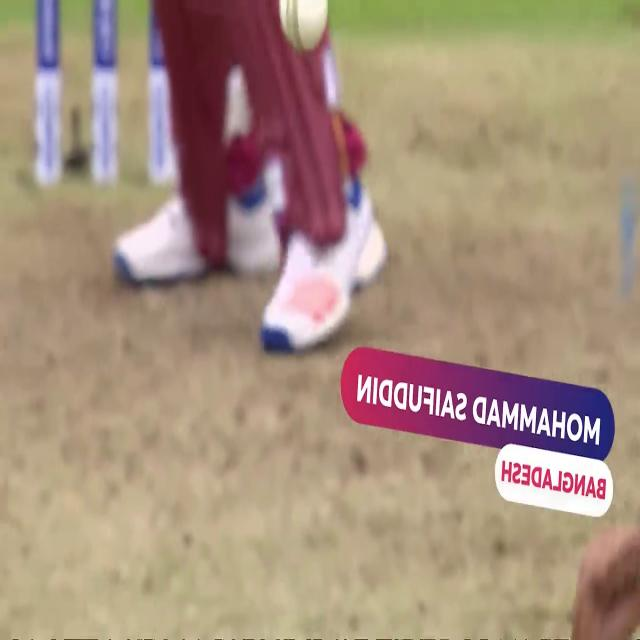ball: (278, 1, 329, 50)
